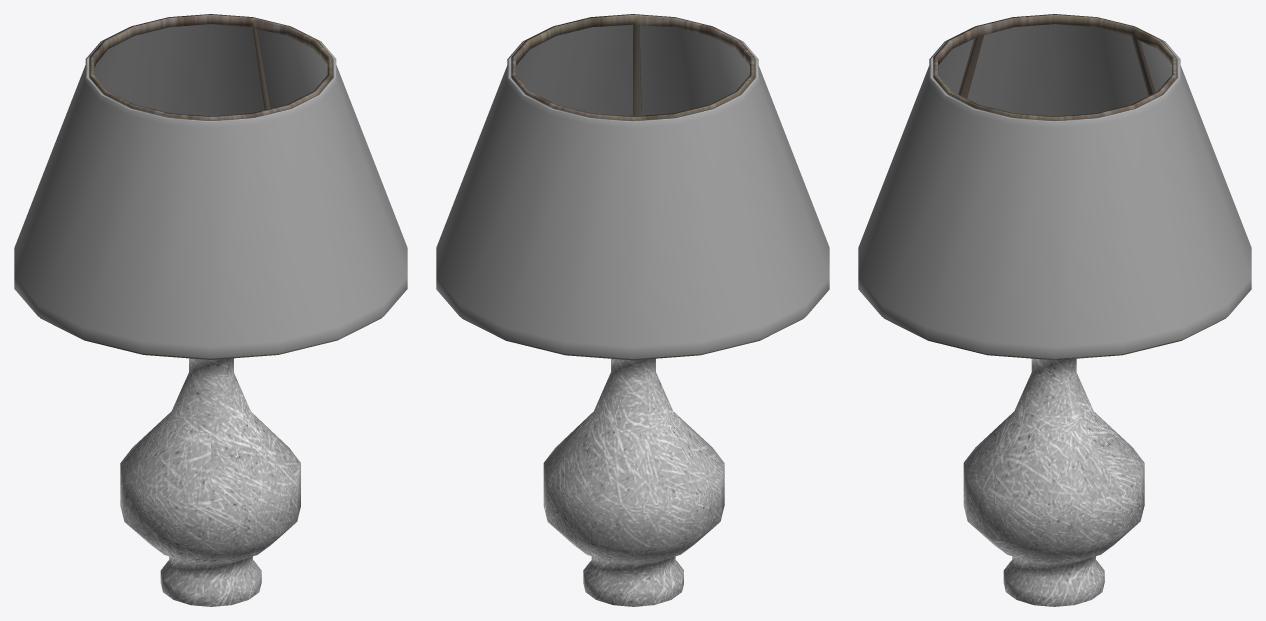
Rendered from LampC.fbx.
The picture shows the model from 3 angles, left to right: view 1: azimuth 30°, elevation 25°; view 2: azimuth 150°, elevation 25°; view 3: azimuth 270°, elevation 25°; orthographic projection.
Parts seen in each view (by area): view 1: LampC; view 2: LampC; view 3: LampC.
Boxes of the visible parts, x1,y1,x2,y2 form: LampC: (14,14,407,606); LampC: (436,14,829,606); LampC: (858,14,1251,606).
Size of the model in its own units: 49.46 by 70.97 by 48.71.
